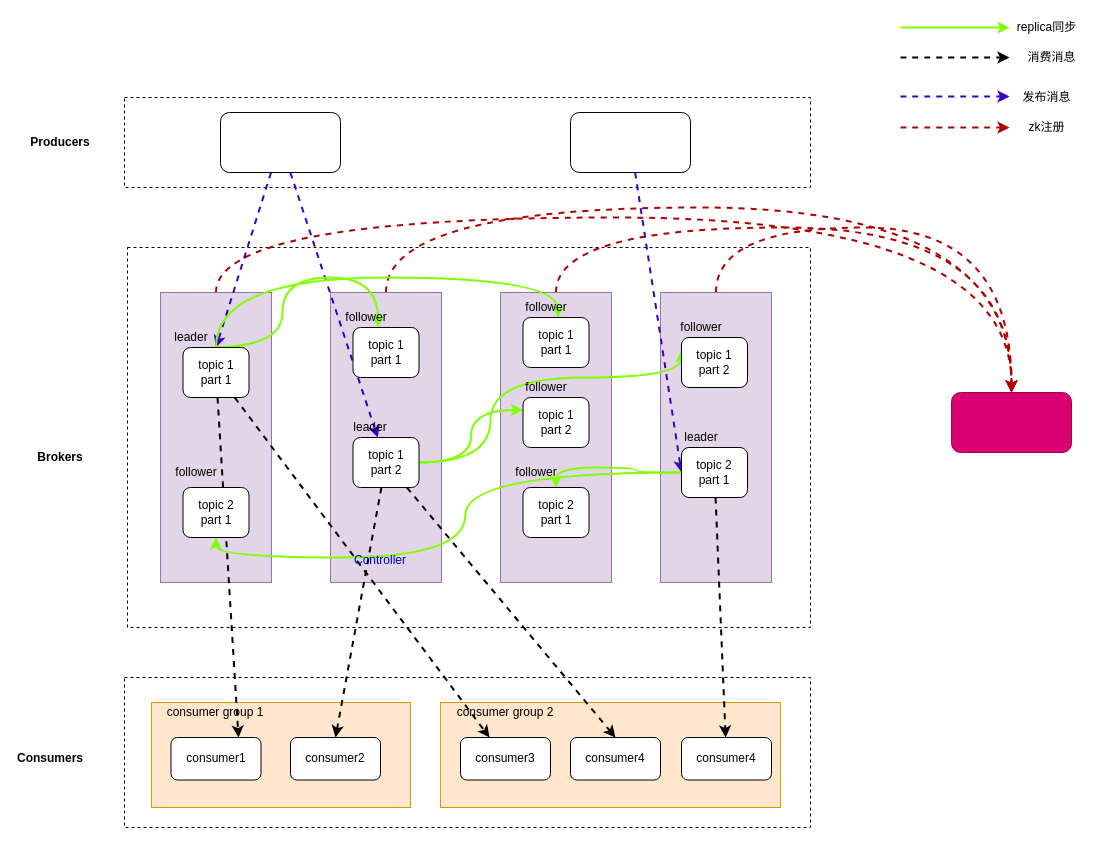
Some shapes in this 1098 by 845 pixel diagram are drawn without their labels. Each missing label, with the centre of its shape:
producer1: [280,142]
producer2: [630,142]
Zookeeper: [1011,422]
